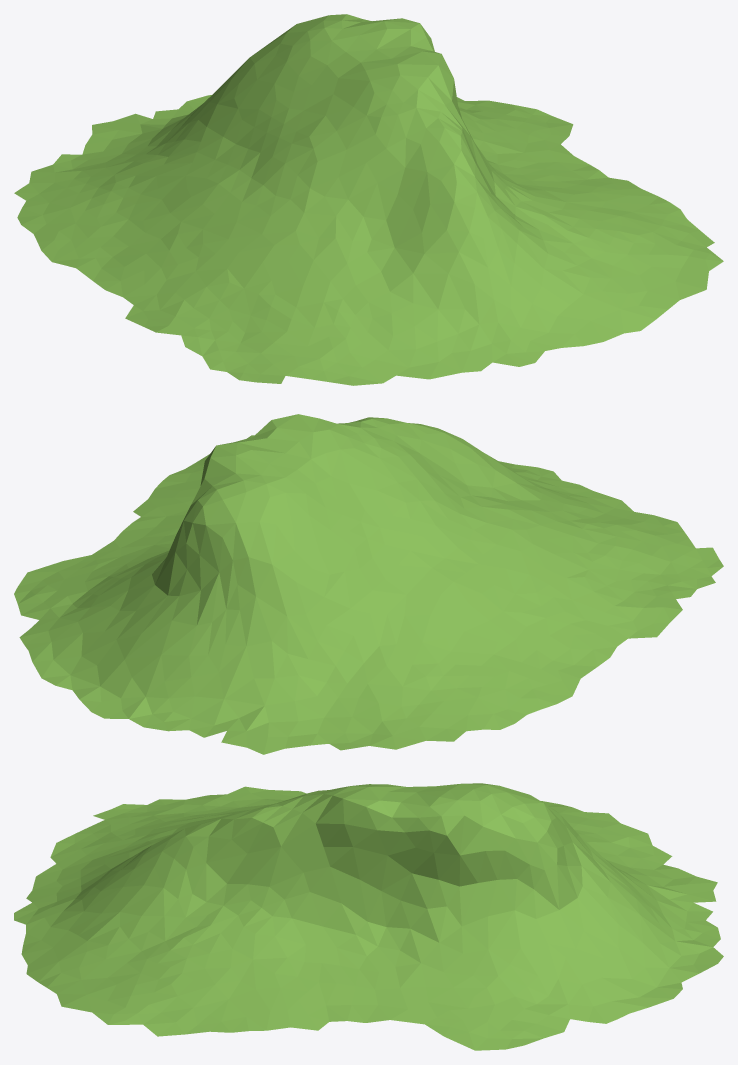
File: MT_Mountain_L_a_09.fbx
The picture shows the model from 3 angles, top to bottom: view 1: azimuth 30°, elevation 25°; view 2: azimuth 150°, elevation 25°; view 3: azimuth 270°, elevation 25°; orthographic projection. The views are drawn at different scales.
Parts seen in each view (by area): view 1: MT_Mountain_L_a_09; view 2: MT_Mountain_L_a_09; view 3: MT_Mountain_L_a_09.
Part boxes in pixels (x1,y1,x2,y2): MT_Mountain_L_a_09: [14, 14, 723, 385]; MT_Mountain_L_a_09: [14, 414, 723, 754]; MT_Mountain_L_a_09: [14, 783, 723, 1050].
Bounding box in the file's own units: 7853 × 2266 × 9140.
